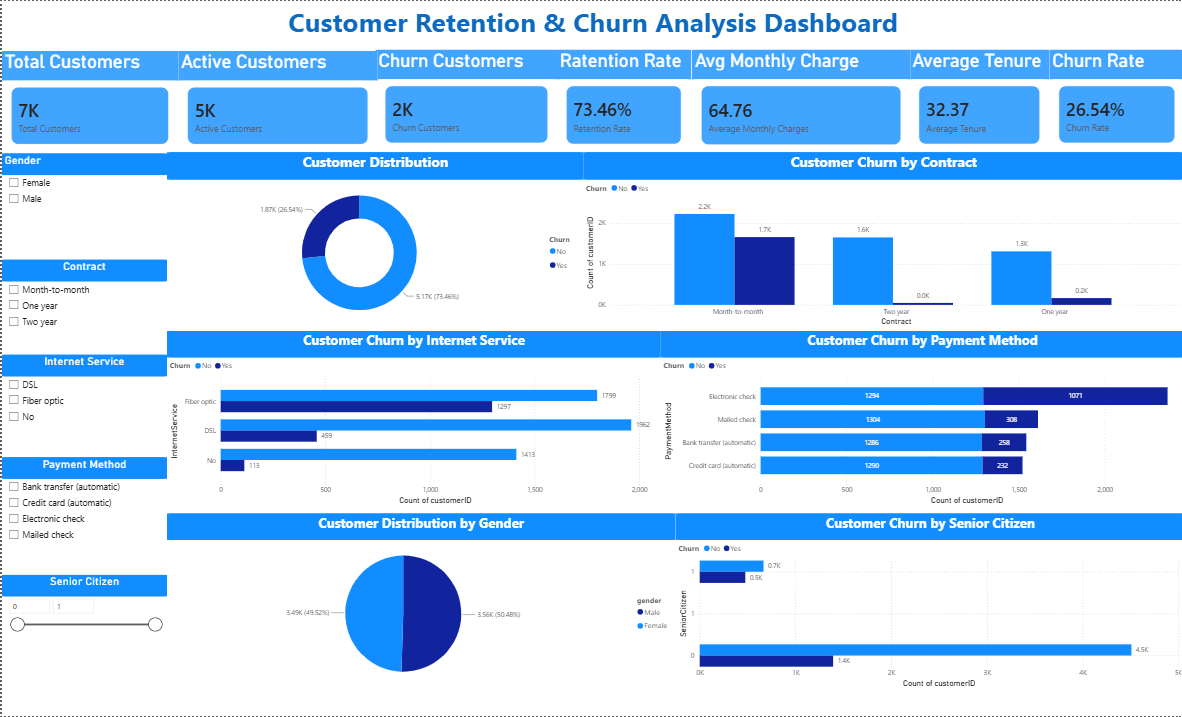

What the dashboard file says about the page in this screenshot:
{"tool":"powerbi","page":{"name":"Page 1","canvas":[2150,1300],"ordinal":0},"visuals":[{"type":"cardVisual","title":"Total Customers","fields":{"Data":["Telco.Total Customers"]},"box":[0,90,320,187.5],"z":0},{"type":"cardVisual","title":"Churn Rate","fields":{"Data":["Telco.Churn Rate"]},"box":[1905,87.5,245,186.7],"z":1000},{"type":"cardVisual","title":"Churn Customers","fields":{"Data":["Telco.Churn Customers"]},"box":[680,87.5,330,187.5],"z":2000},{"type":"cardVisual","title":"Average Tenure","fields":{"Data":["Telco.Average Tenure"]},"box":[1650,87.5,254.5,189.4],"z":3000},{"type":"cardVisual","title":"Active Customers","fields":{"Data":["Telco.Active Customers"]},"box":[320,90,362.5,187.5],"z":4000},{"type":"cardVisual","title":"Ratention Rate","fields":{"Data":["Telco.Retention Rate"]},"box":[1010,87.5,243.9,189.4],"z":5000},{"type":"cardVisual","title":"Avg Monthly Charge","fields":{"Data":["Telco.Average Monthly Charges"]},"box":[1255,87.5,397.5,190],"z":6000},{"type":"donutChart","title":" Customer Distribution","fields":{"Category":["Telco.Churn"],"Y":["CountNonNull(Telco.customerID)"]},"box":[300,275,757.9,321.1],"z":6001},{"type":"clusteredColumnChart","title":"Customer Churn by Contract","fields":{"Category":["Telco.Contract"],"Series":["Telco.Churn"],"Y":["CountNonNull(Telco.customerID)"]},"box":[1057.5,275,1093,321.1],"z":6002},{"type":"clusteredBarChart","title":" Customer Churn by Internet Service","fields":{"Category":["Telco.InternetService"],"Series":["Telco.Churn"],"Y":["CountNonNull(Telco.customerID)"]},"box":[300,600,898.2,321.1],"z":6003},{"type":"barChart","title":"Customer Churn by Payment Method","fields":{"Category":["Telco.PaymentMethod"],"Series":["Telco.Churn"],"Y":["CountNonNull(Telco.customerID)"]},"box":[1197.5,600,952.6,321.1],"z":6004},{"type":"pieChart","title":"Customer Distribution by Gender","fields":{"Category":["Telco.gender"],"Y":["CountNonNull(Telco.customerID)"]},"box":[300,932.5,924.6,321.1],"z":6005},{"type":"clusteredBarChart","title":"Customer Churn by Senior Citizen","fields":{"Category":["Telco.SeniorCitizen"],"Series":["Telco.Churn"],"Y":["CountNonNull(Telco.customerID)"]},"box":[1225,932.5,926.3,321.1],"z":6006},{"type":"slicer","title":"Gender","fields":{"Values":["Telco.gender"]},"box":[0,277.5,300,192.5],"z":6007},{"type":"slicer","title":"Contract","fields":{"Values":["Telco.Contract"]},"box":[0,470,300,172.5],"z":6008},{"type":"slicer","title":"Internet Service","fields":{"Values":["Telco.InternetService"]},"box":[0,642.5,300,187.5],"z":6009},{"type":"slicer","title":"Payment Method","fields":{"Values":["Telco.PaymentMethod"]},"box":[0,830,300,212.5],"z":6010},{"type":"slicer","title":"Senior Citizen","fields":{"Values":["Telco.SeniorCitizen"]},"box":[0,1042.5,300,210],"z":6011},{"type":"textbox","box":[0,0,2150,88],"z":6012}]}

Visuals, with their boxes in screenshot pixels (x1, y1, x2, y2), scaled from the page's 2150x1300 canvas onto the 1182x717 screenshot:
"Total Customers" cardVisual: 0,50,176,153
"Churn Rate" cardVisual: 1047,48,1181,151
"Churn Customers" cardVisual: 374,48,555,152
"Average Tenure" cardVisual: 907,48,1047,153
"Active Customers" cardVisual: 176,50,375,153
"Ratention Rate" cardVisual: 555,48,689,153
"Avg Monthly Charge" cardVisual: 690,48,908,153
" Customer Distribution" donutChart: 165,152,582,329
"Customer Churn by Contract" clusteredColumnChart: 581,152,1181,329
" Customer Churn by Internet Service" clusteredBarChart: 165,331,659,508
"Customer Churn by Payment Method" barChart: 658,331,1181,508
"Customer Distribution by Gender" pieChart: 165,514,673,691
"Customer Churn by Senior Citizen" clusteredBarChart: 673,514,1181,691
"Gender" slicer: 0,153,165,259
"Contract" slicer: 0,259,165,354
"Internet Service" slicer: 0,354,165,458
"Payment Method" slicer: 0,458,165,575
"Senior Citizen" slicer: 0,575,165,691
textbox: 0,0,1181,49
